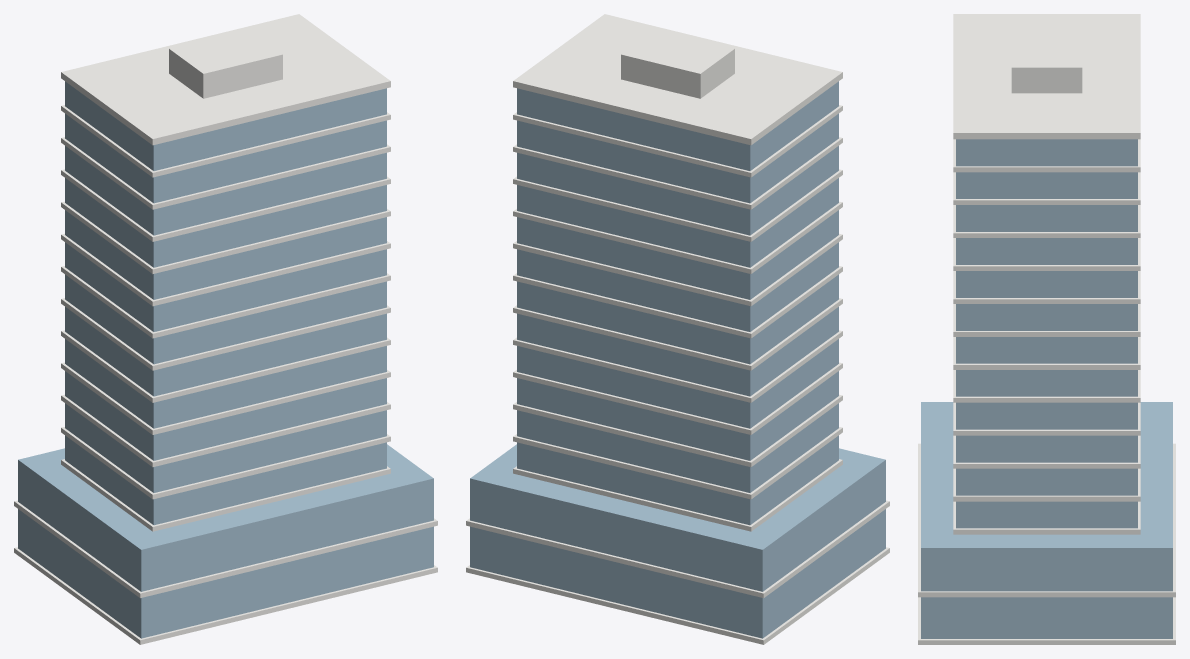
File: tower.gltf
The picture shows the model from 3 angles, left to right: view 1: azimuth 30°, elevation 25°; view 2: azimuth 150°, elevation 25°; view 3: azimuth 270°, elevation 25°; orthographic projection. The views are drawn at different scales.
Parts seen in each view (by area): view 1: proposed_tower; view 2: proposed_tower; view 3: proposed_tower.
Part boxes in pixels (x1,y1,x2,y2): proposed_tower: [14, 14, 437, 644]; proposed_tower: [466, 14, 889, 644]; proposed_tower: [918, 14, 1175, 644].
Size of the model in its own units: 30 by 49.2 by 22.
